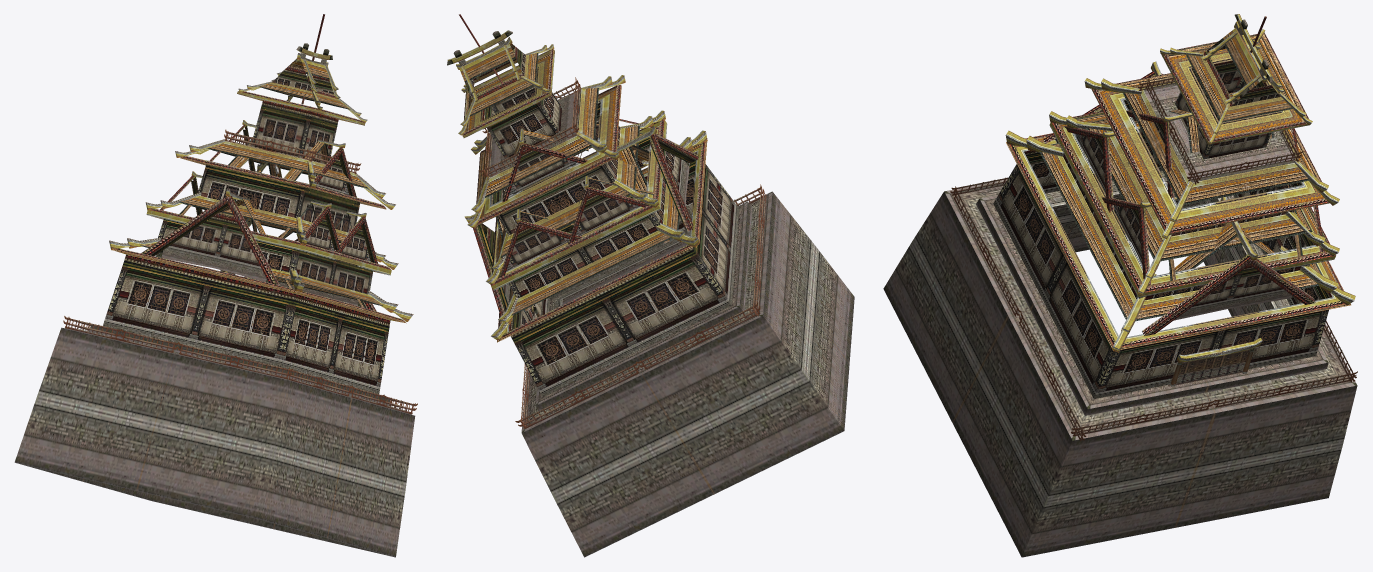
File: castle_regicide.fbx
3 renders of one model, left to right at view 1: azimuth 30°, elevation 25°; view 2: azimuth 150°, elevation 25°; view 3: azimuth 270°, elevation 25°, orthographic. The views are drawn at different scales.
Parts seen in each view (by area): view 1: Object02, Object03; view 2: Object02, Object03; view 3: Object02, Object03.
Boxes of the visible parts, box(x1,y1,x2,y2) form: Object02: box(14, 43, 417, 557); Object03: box(114, 58, 404, 321); Object02: box(447, 30, 854, 557); Object03: box(459, 44, 705, 339); Object02: box(883, 14, 1357, 557); Object03: box(1009, 28, 1344, 347).
Size of the model in its own units: 15 by 13.78 by 18.18.
1 material, 1 textured.
